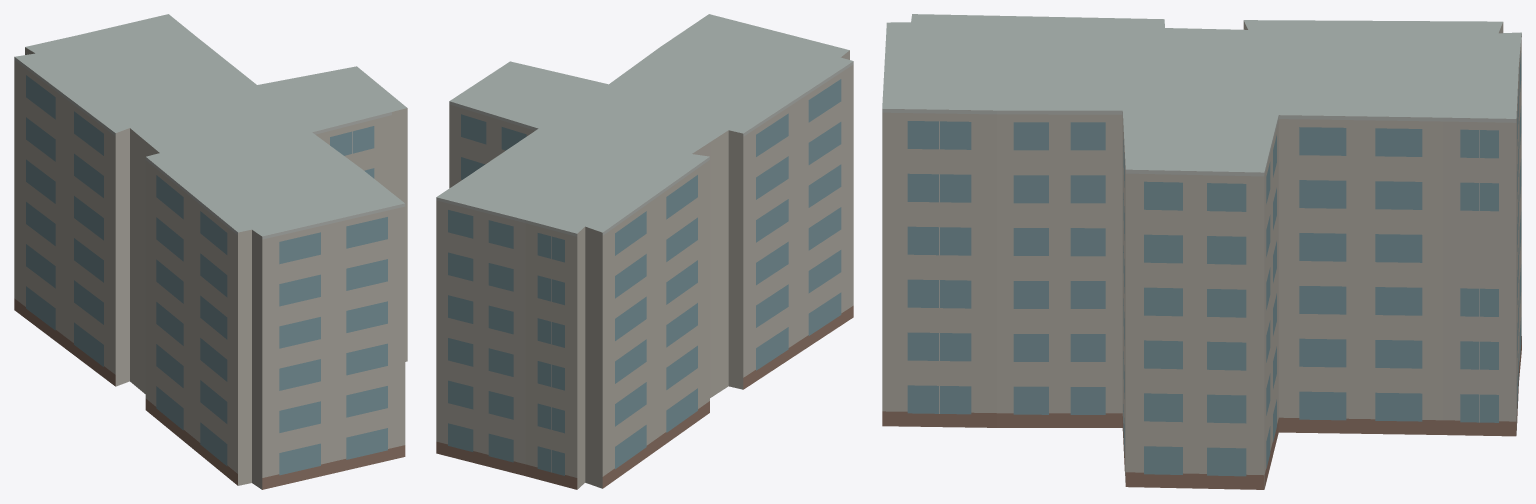
File: survey-upis-33014348.glb
The picture shows the model from 3 angles, left to right: view 1: azimuth 30°, elevation 25°; view 2: azimuth 150°, elevation 25°; view 3: azimuth 270°, elevation 25°; orthographic projection. The views are drawn at different scales.
Parts seen in each view (by area): view 1: survey-upis-33014348.tmp; view 2: survey-upis-33014348.tmp; view 3: survey-upis-33014348.tmp.
Part boxes in pixels (x1=…): survey-upis-33014348.tmp: x1=14, y1=14, x2=407, y2=489; survey-upis-33014348.tmp: x1=436, y1=14, x2=853, y2=489; survey-upis-33014348.tmp: x1=882, y1=14, x2=1521, y2=489.
Size of the model in its own units: 21.33 by 19.9 by 36.36.
